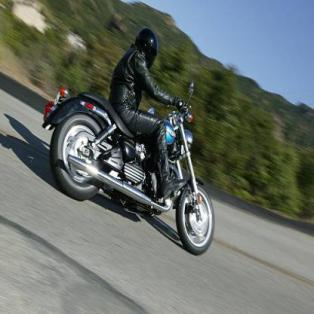Motocicleta: (44, 77, 218, 254)
